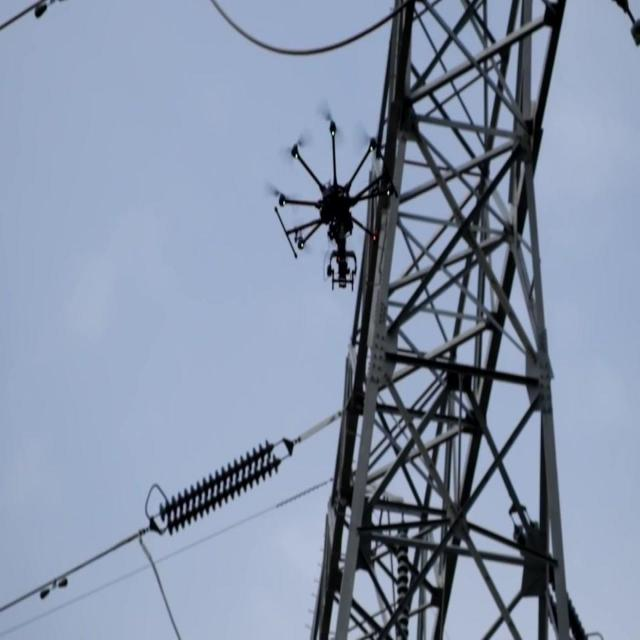UAV: (267, 108, 399, 290)
